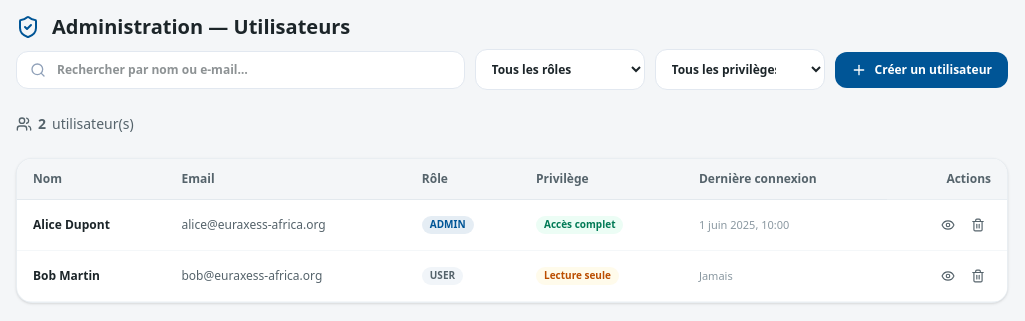
Test: AdminView › filters the user list by role
This screenshot has width=1025, height=321.
Select "Administrateurs" in the dropdown titled "Filtrer par rôle" at (560, 70), box [475,49,645,90]
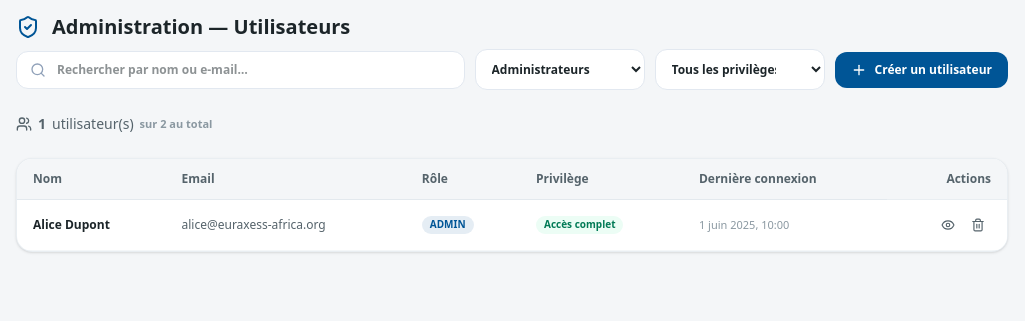
Expected: the text "Bob Martin" is gone
